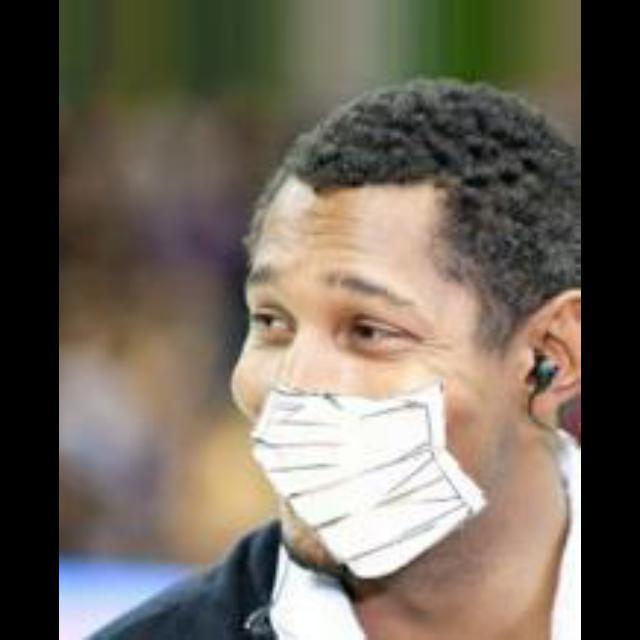suspicion: (233, 143, 544, 562)
